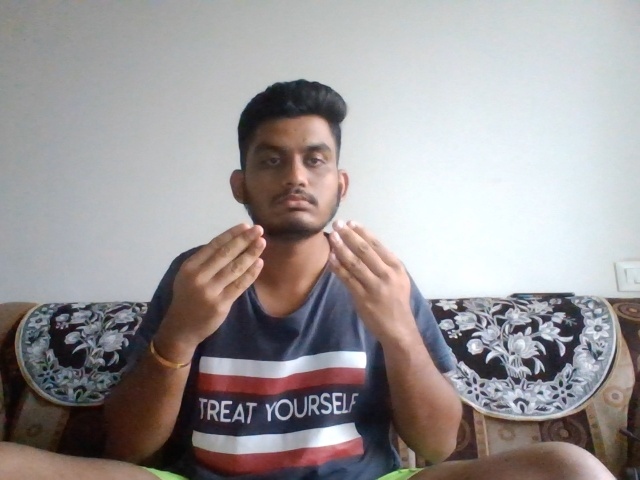Thank You: (164, 214, 417, 334)
